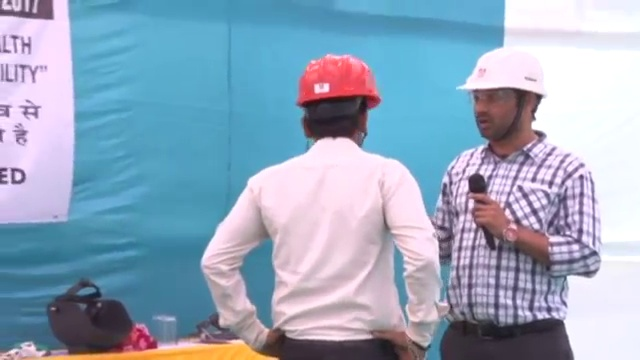helmet: (292, 52, 384, 112), (453, 45, 551, 101)
helmet_on: (453, 43, 552, 151), (292, 52, 385, 152)
person: (198, 53, 446, 360), (429, 44, 604, 360)
